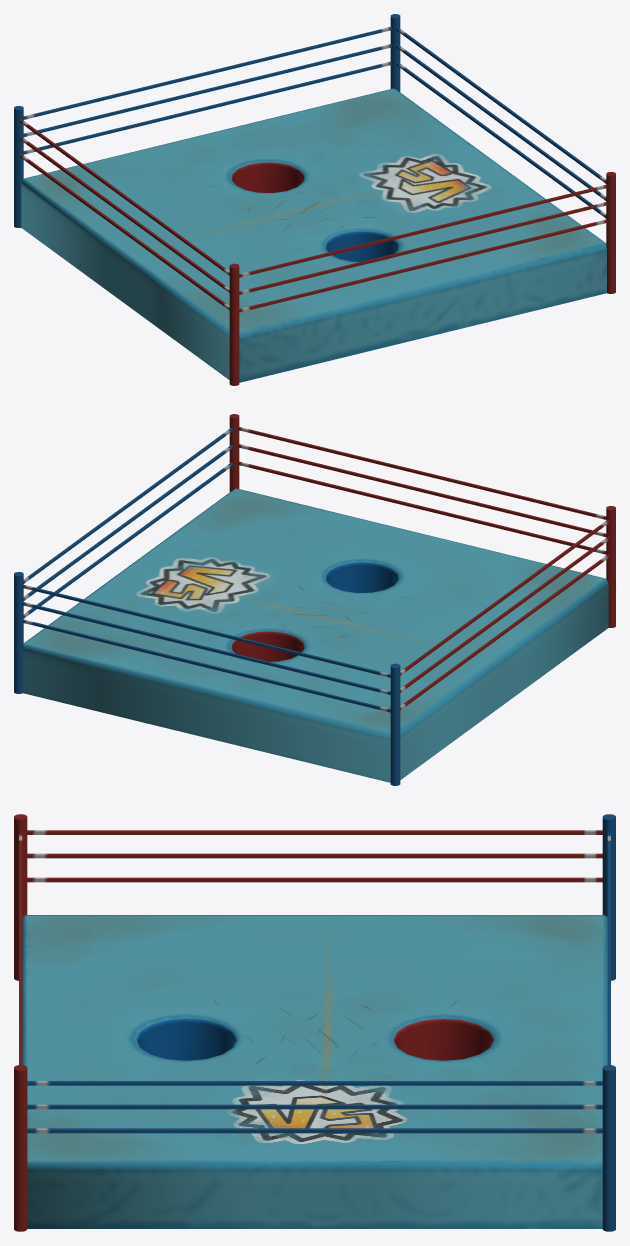
The model's file is Ring_Mesh.fbx.
3 renders of one model, top to bottom at view 1: azimuth 30°, elevation 25°; view 2: azimuth 150°, elevation 25°; view 3: azimuth 270°, elevation 25°, orthographic. The views are drawn at different scales.
Parts seen in each view (by area): view 1: arene_plateforme, arene_corde; view 2: arene_plateforme, arene_corde; view 3: arene_plateforme, arene_corde.
Boxes of the visible parts, x1,y1,x2,y2 form: arene_plateforme: (21,88,606,382); arene_corde: (14,14,615,385); arene_plateforme: (23,488,608,782); arene_corde: (14,414,615,785); arene_plateforme: (22,915,607,1228); arene_corde: (14,814,615,1231).
Size of the model in its own units: 0.4389 by 0.1286 by 0.4354.
